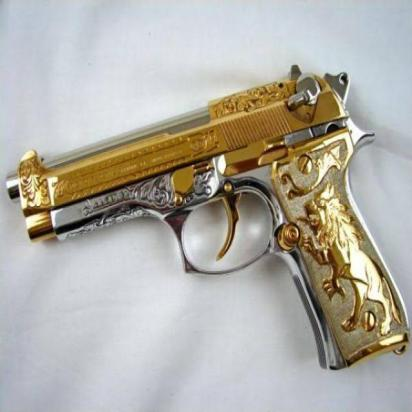Gun: (2, 60, 412, 374)
